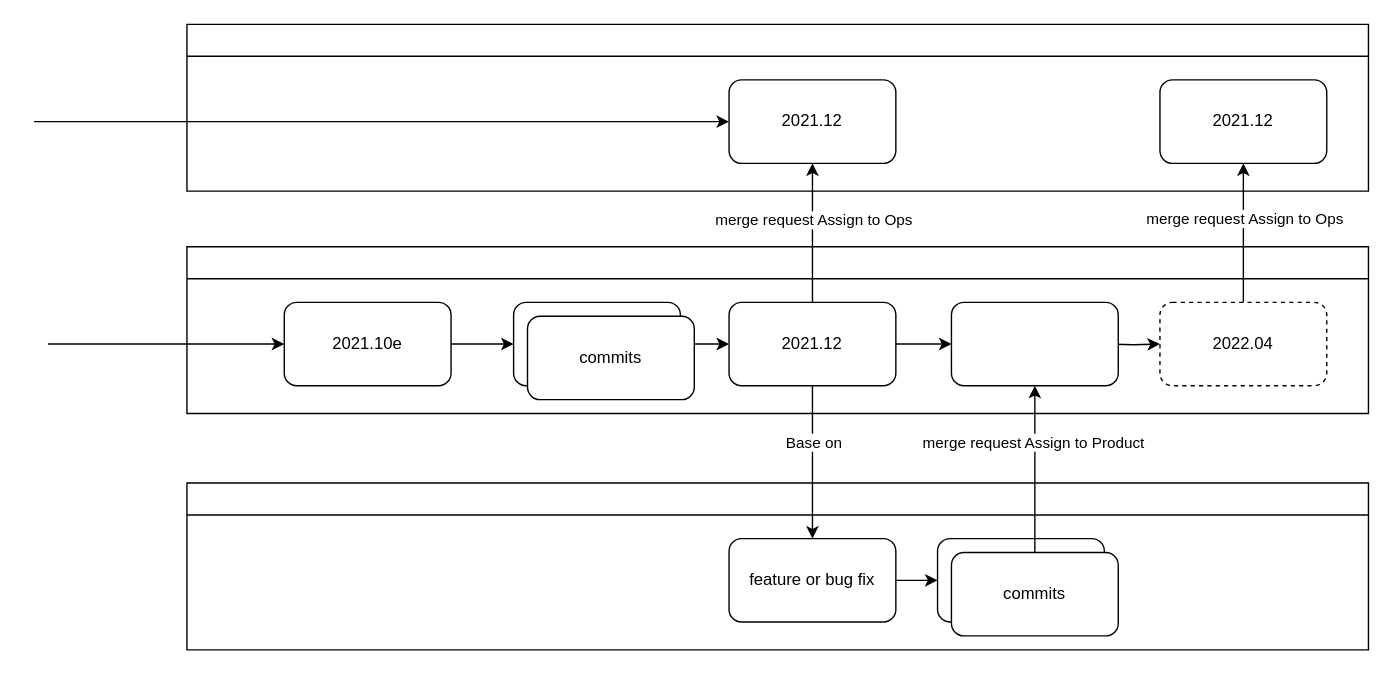
This 1393x674 diagram has some shape labels left out. The box of each missing label's shape, as (x1, y1, x2, y2) in pixels:
Branch: Feature or Bug fix (Example: superset-add-send-email): (186, 482, 1368, 650)
Branch: Master: (186, 245, 1368, 414)
Branch: Stable: (186, 23, 1368, 191)
current: (950, 301, 1118, 386)
